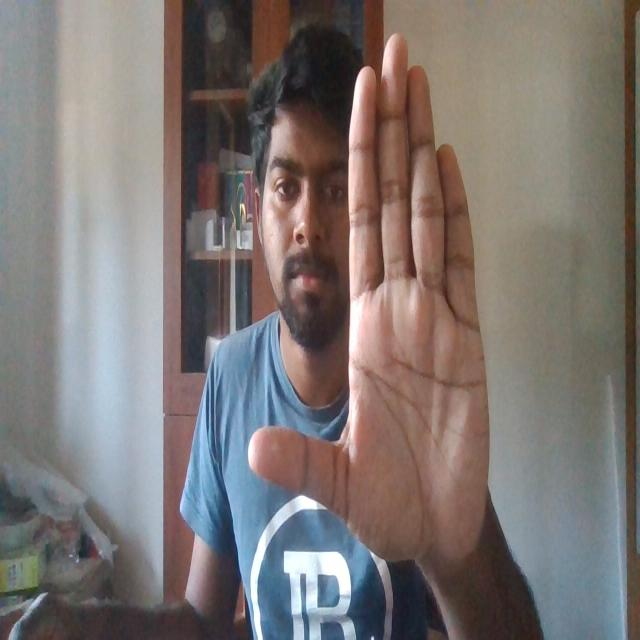Hello: (241, 15, 493, 590)
